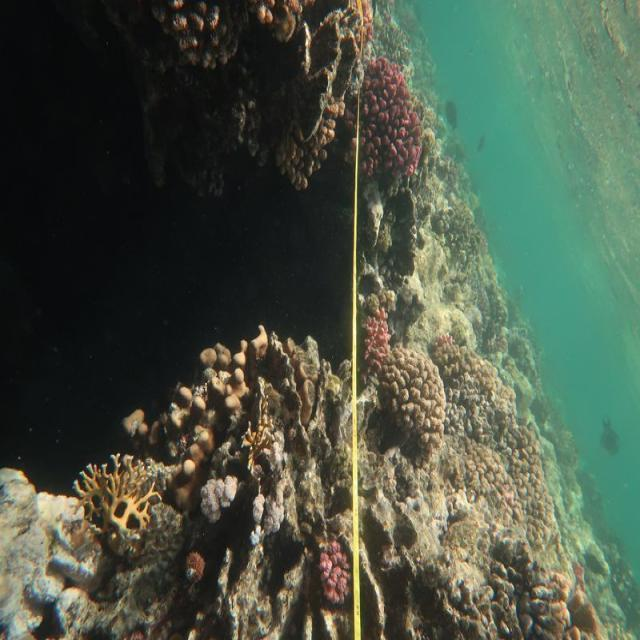Healthy Coral: (354, 49, 430, 190), (70, 448, 152, 556), (316, 535, 355, 612), (361, 307, 394, 377)
